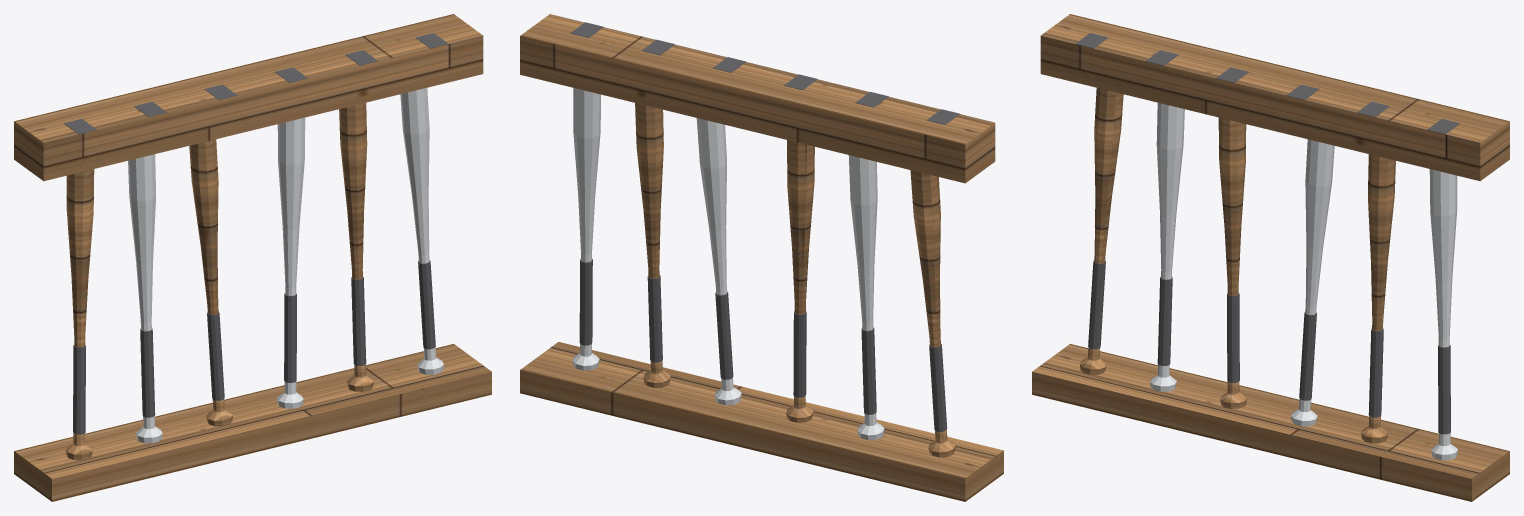
The model's file is bat_rack.glb.
3 renders of one model, left to right at view 1: azimuth 30°, elevation 25°; view 2: azimuth 150°, elevation 25°; view 3: azimuth 330°, elevation 25°, orthographic.
Parts seen in each view (by area): view 1: bat_rack_wood, bat_rack_alu, bat_rack_rubber, bat_rack_dark; view 2: bat_rack_wood, bat_rack_alu, bat_rack_rubber, bat_rack_dark; view 3: bat_rack_wood, bat_rack_alu, bat_rack_rubber, bat_rack_dark.
Part boxes in pixels (x1,y1,x2,y2): bat_rack_wood: (14,14,491,501); bat_rack_alu: (128,88,443,443); bat_rack_rubber: (73,260,435,434); bat_rack_dark: (64,33,448,134); bat_rack_wood: (520,14,1003,501); bat_rack_alu: (572,88,884,439); bat_rack_rubber: (579,258,947,431); bat_rack_dark: (570,22,959,124); bat_rack_wood: (1032,14,1509,501); bat_rack_alu: (1150,102,1457,460); bat_rack_rubber: (1088,260,1450,434); bat_rack_dark: (1075,33,1459,134).
Size of the model in its own units: 1.2 by 0.921 by 0.18.
4 materials, 1 textured.
